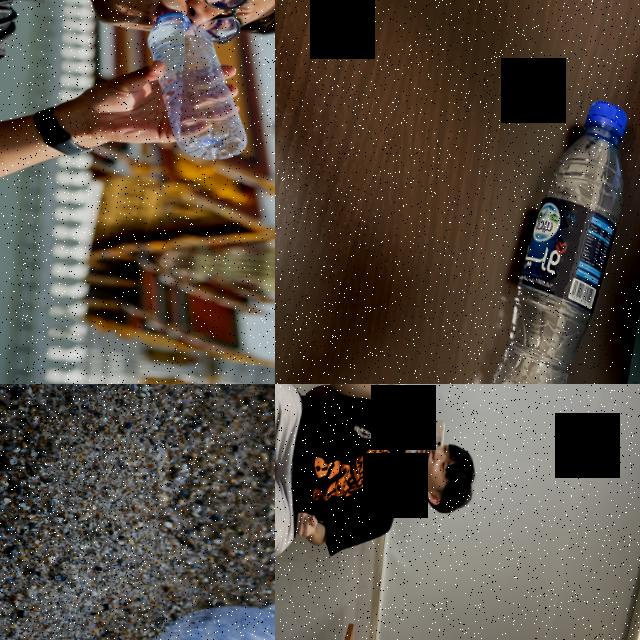bottle: (462, 84, 640, 384), (128, 7, 262, 166), (0, 568, 275, 640)
